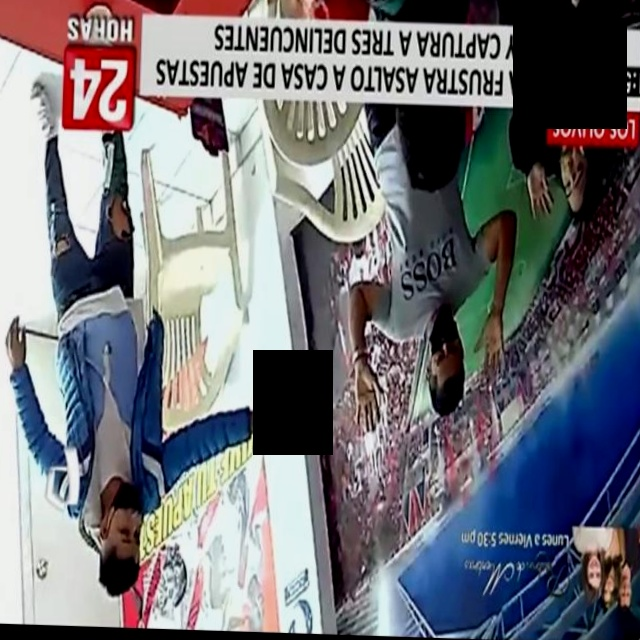gun: (249, 354, 253, 455)
